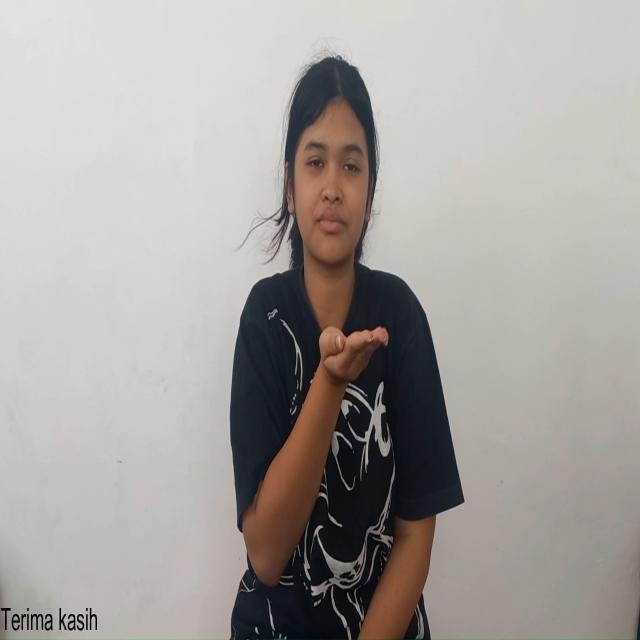Terima kasih -BISINDO-: (237, 322, 391, 590)
